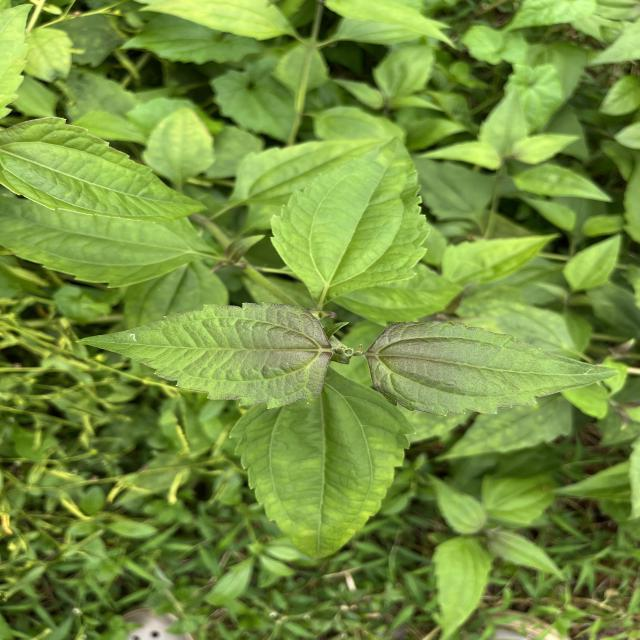Chromolaena odorata: (70, 297, 338, 412), (362, 315, 628, 419), (0, 110, 214, 227)
